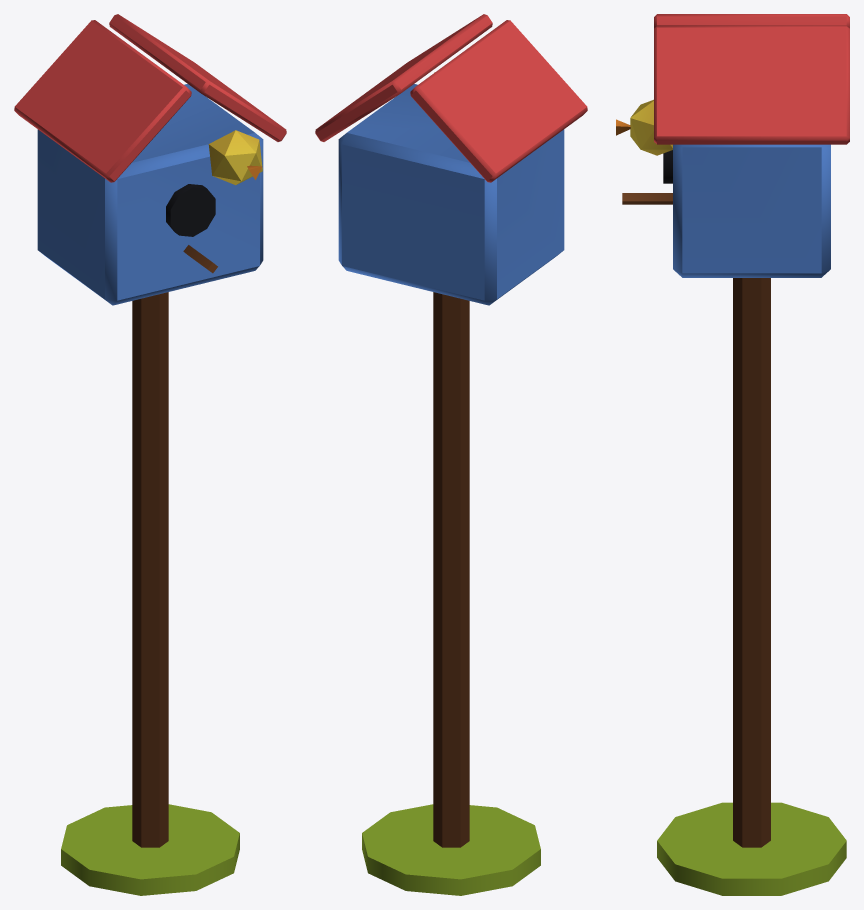
The model's file is b_vogelhaus.glb.
3 renders of one model, left to right at view 1: azimuth 30°, elevation 25°; view 2: azimuth 150°, elevation 25°; view 3: azimuth 270°, elevation 25°, orthographic. The views are drawn at different scales.
Visible parts, largest first — view 1: body; view 2: body; view 3: body.
Boxes of the visible parts, box(x1,y1,x2,y2) form: body: box(14, 14, 286, 895); body: box(315, 14, 587, 895); body: box(616, 14, 849, 895).
Bounding box in the file's own units: 0.6857 × 2.92 × 0.74.
